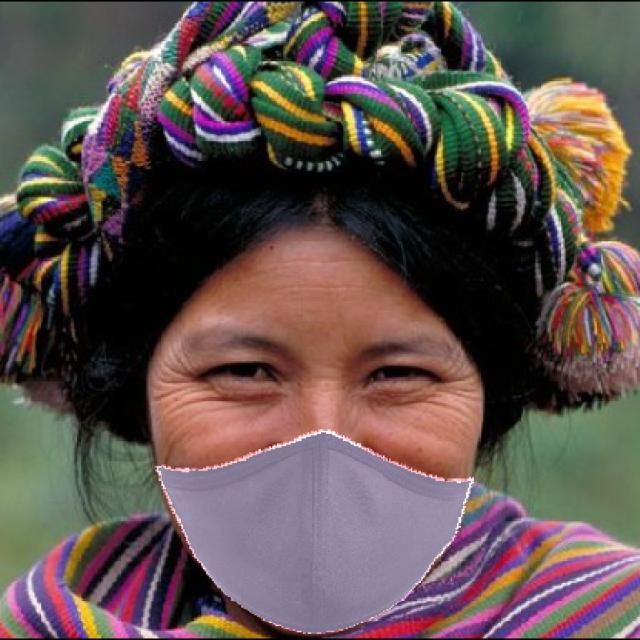mask: (136, 402, 480, 640)
